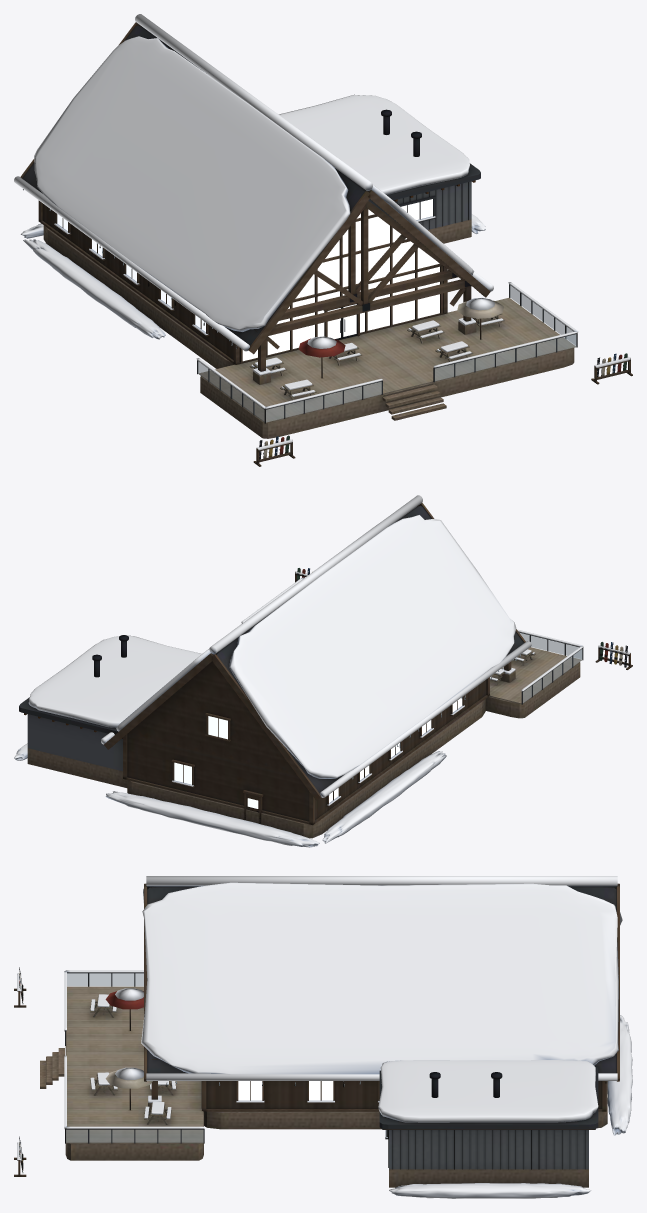
File: sams.glb
3 renders of one model, top to bottom at view 1: azimuth 30°, elevation 25°; view 2: azimuth 150°, elevation 25°; view 3: azimuth 270°, elevation 25°, orthographic. The views are drawn at different scales.
Parts seen in each view (by area): view 1: sams_snow, sams, sams_lit, sams_glass; view 2: sams_snow, sams, sams_lit, sams_glass; view 3: sams_snow, sams, sams_glass, sams_lit.
Boxes of the visible parts, x1,y1,x2,y2 form: sams_snow: (14,14,630,450); sams: (20,22,632,466); sams_lit: (57,199,439,361); sams_glass: (198,285,576,422); sams_snow: (14,495,630,847); sams: (19,503,632,838); sams_lit: (174,698,462,808); sams_glass: (520,633,582,702); sams_snow: (17,876,632,1198); sams: (14,883,619,1187); sams_glass: (66,973,203,1142); sams_lit: (238,1081,333,1100).
Size of the model in its own units: 31.99 by 14.67 by 40.2.
Materials: 4 (1 with a texture image).
